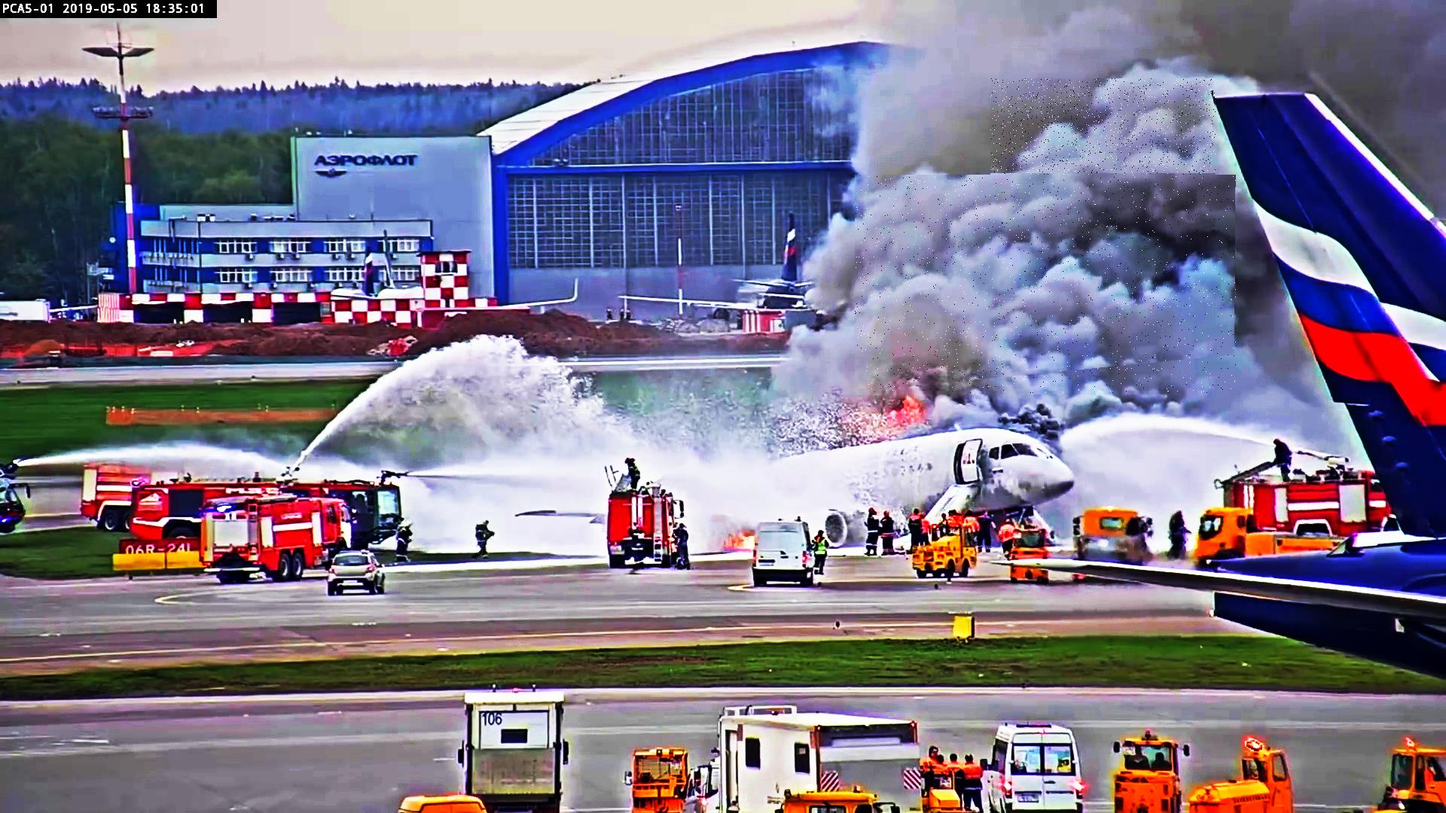smoke: (855, 175, 1236, 393), (991, 79, 1216, 296)
